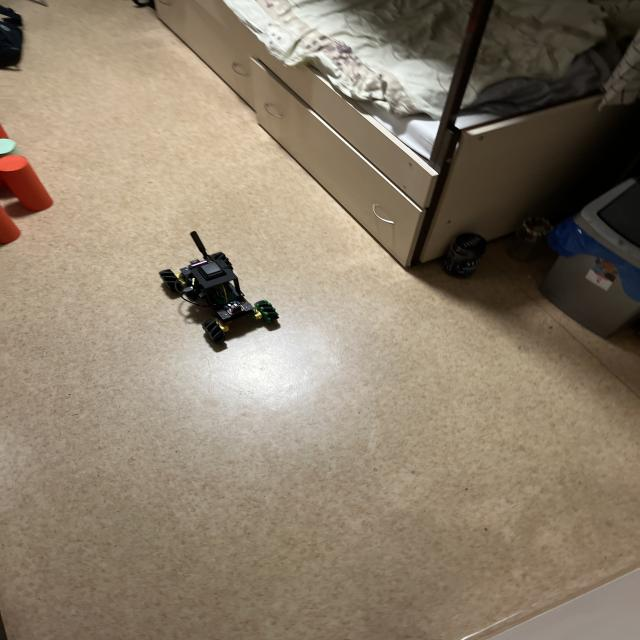robot: (159, 231, 279, 349)
